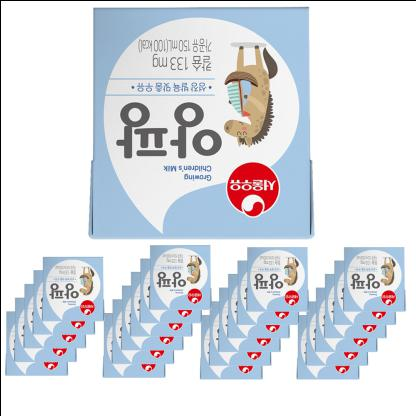tetra: (69, 0, 324, 252)
